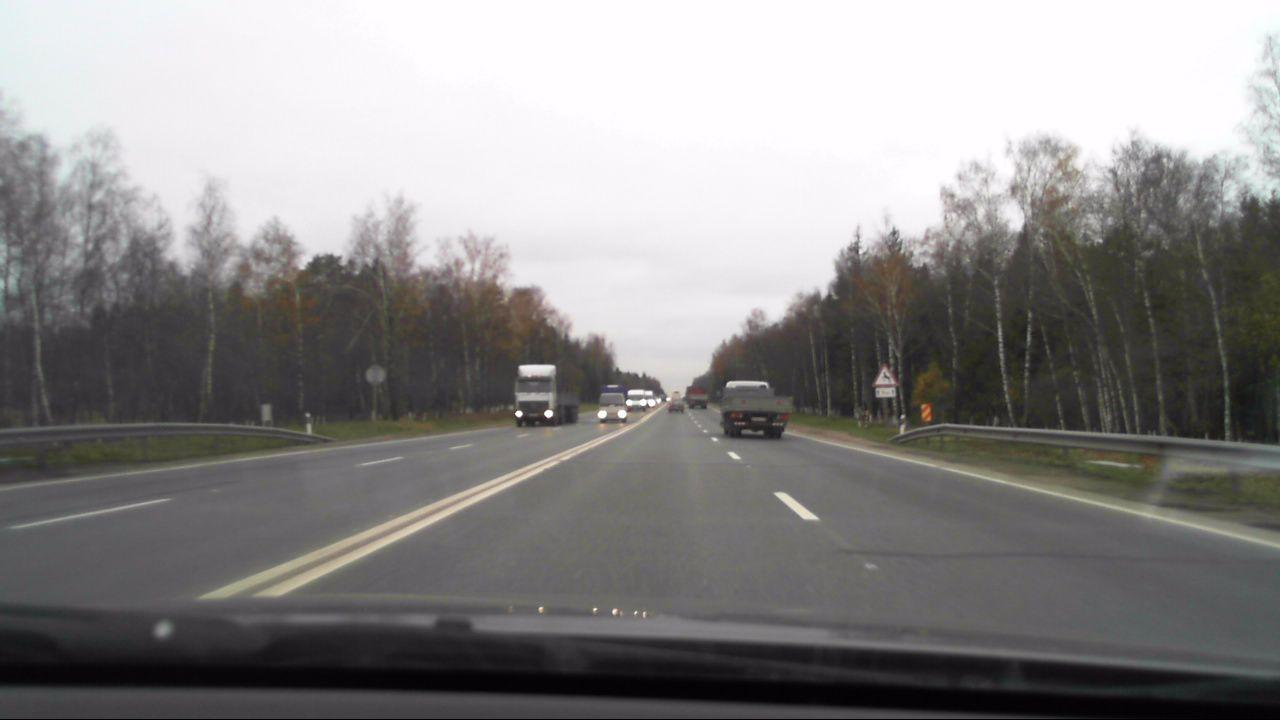1_27: (872, 364, 896, 387)
8_22_2: (921, 401, 933, 426)
8_2_1: (875, 387, 896, 399)
